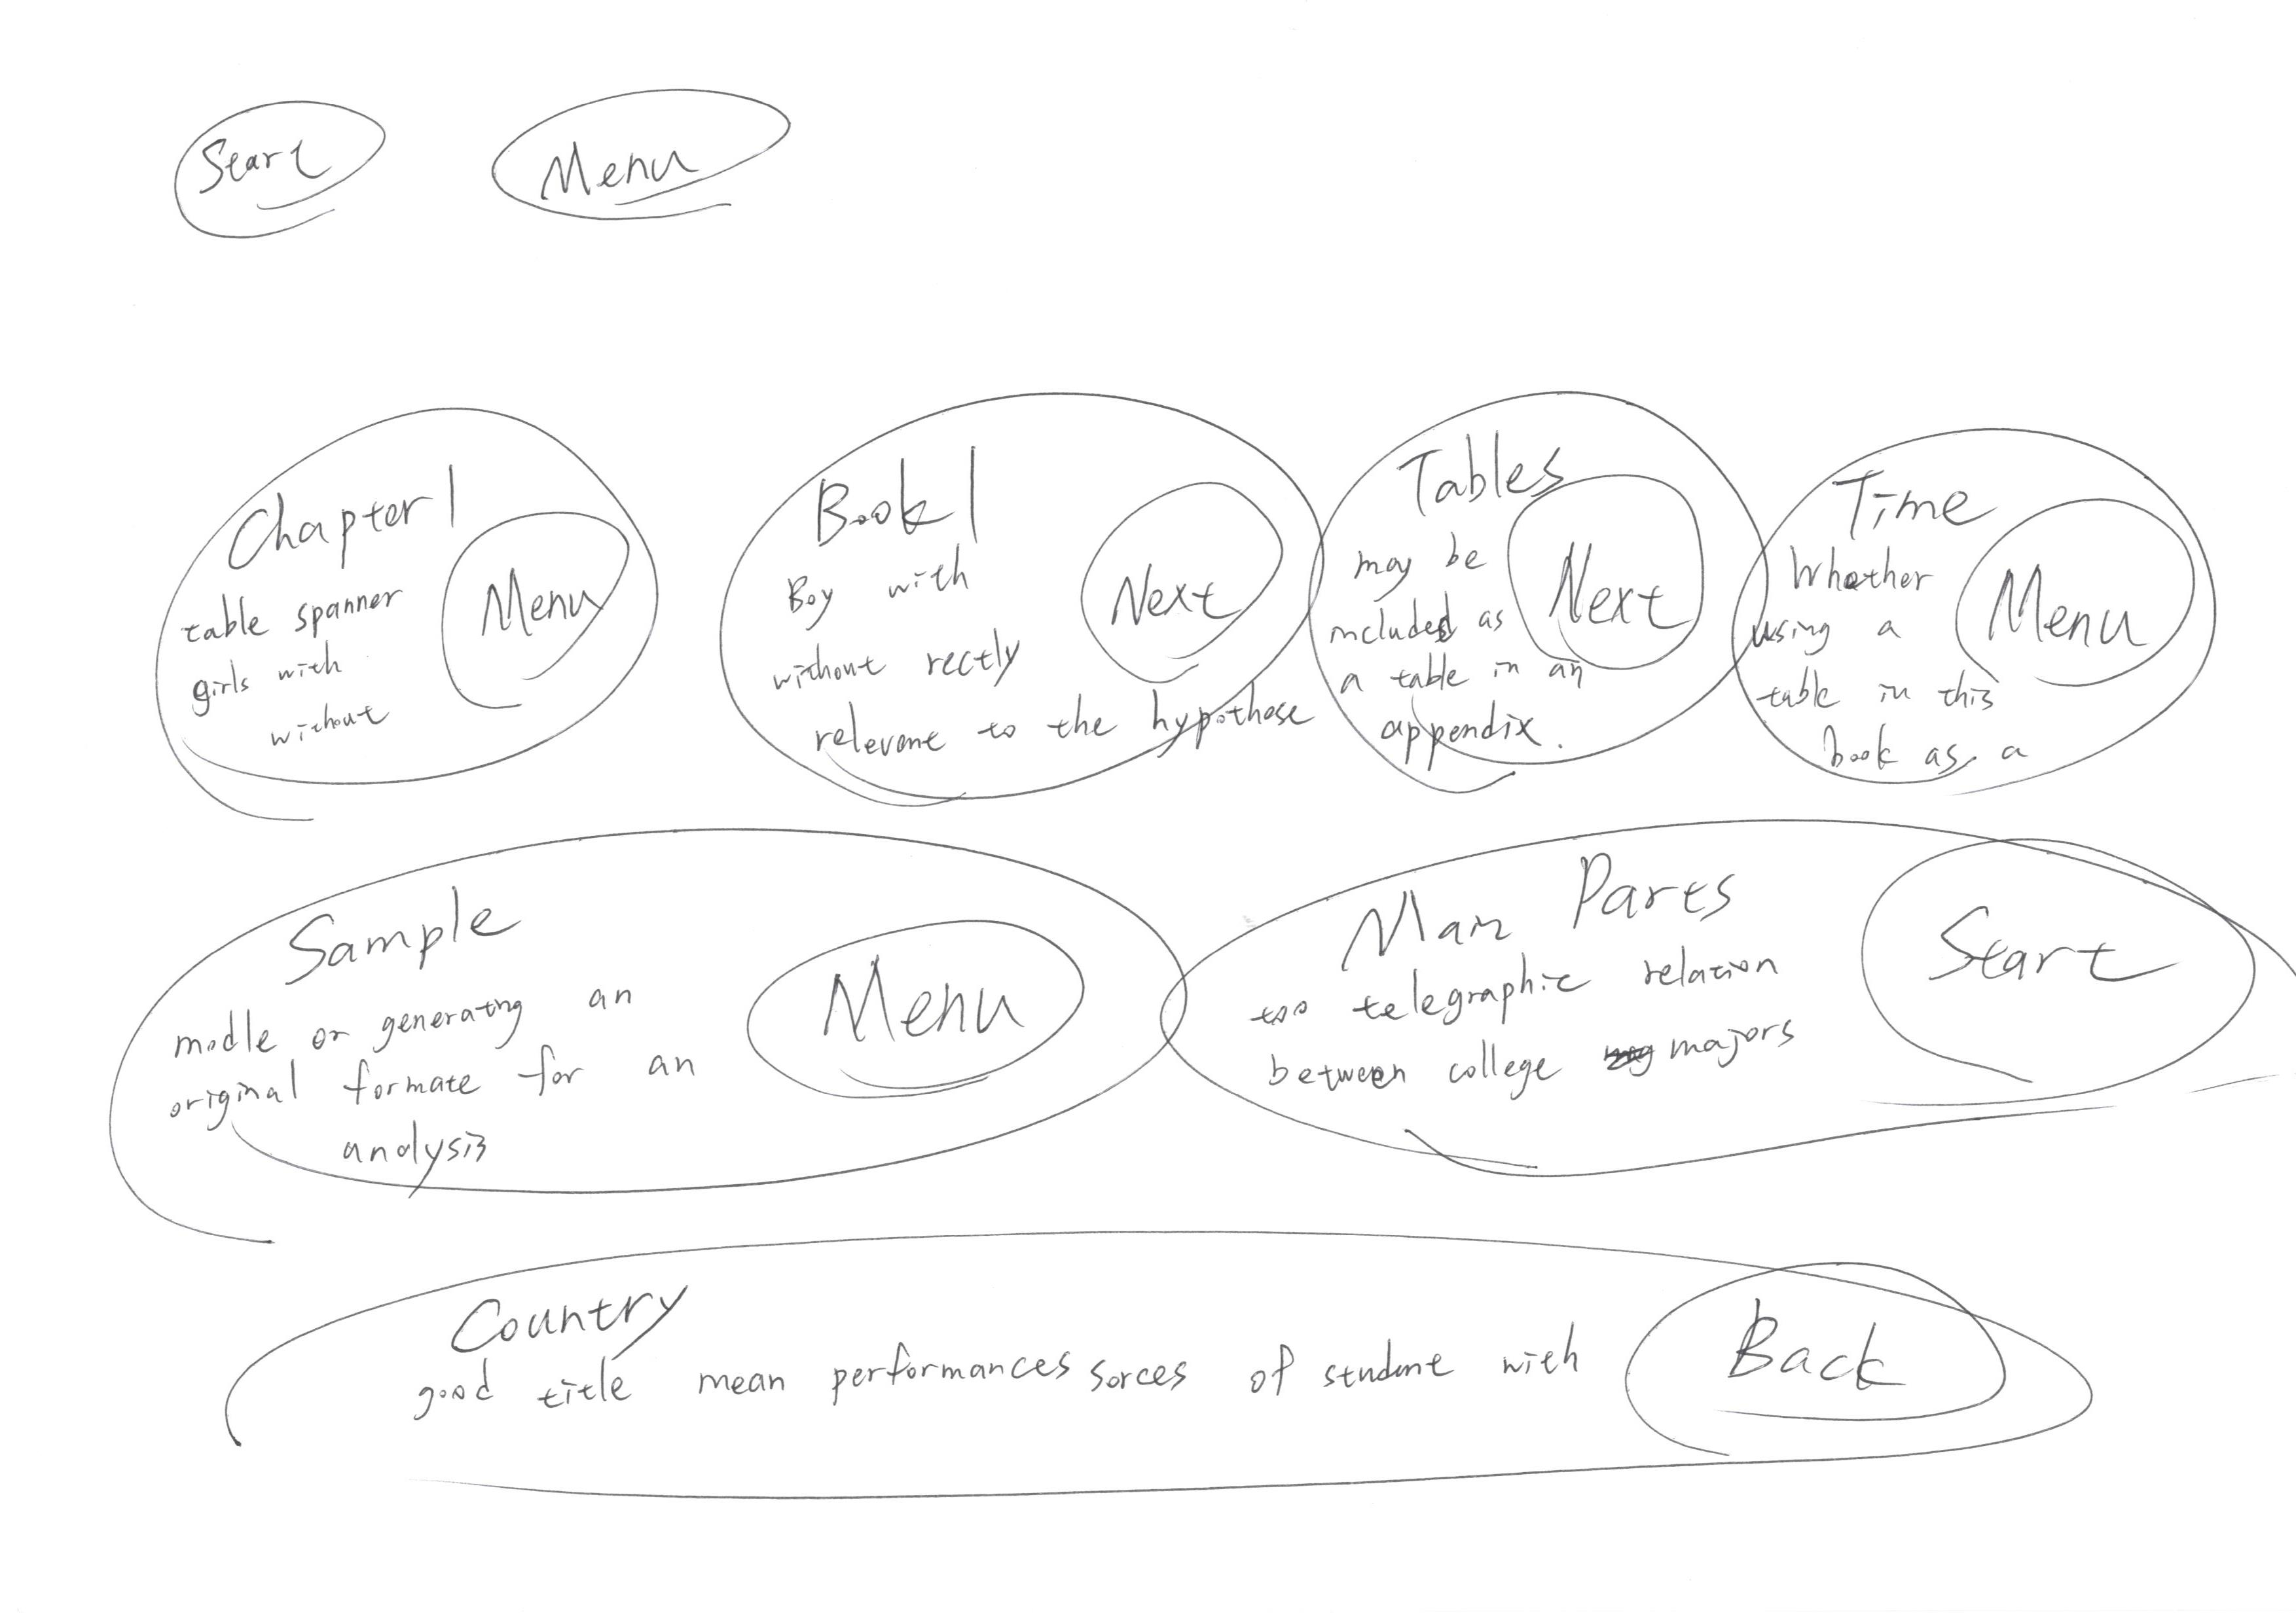back: (1612, 1243, 2022, 1462)
double: (1155, 808, 2296, 1211), (102, 800, 1194, 1220)
menu: (742, 909, 1116, 1118), (480, 70, 823, 230), (1943, 492, 2219, 689), (436, 494, 638, 708)
next: (1062, 462, 1301, 685)
quadruple: (710, 369, 1334, 835), (1712, 357, 2275, 845), (134, 383, 689, 808), (1299, 362, 1802, 824)
row: (100, 323, 2296, 849), (100, 1195, 2296, 1564), (100, 817, 2296, 1185), (100, 0, 2296, 260)
single: (178, 1223, 2150, 1520)
small-title: (1371, 852, 1732, 944), (805, 438, 1028, 564), (422, 1271, 689, 1350), (280, 900, 531, 982), (181, 489, 482, 550), (1420, 422, 1575, 508), (1832, 462, 1985, 548)
start: (1855, 826, 2250, 1107), (144, 62, 420, 255)
text: (158, 997, 735, 1183), (396, 1338, 1589, 1410), (1269, 951, 1820, 1093), (169, 571, 429, 770), (775, 564, 1044, 707), (814, 671, 1308, 747), (1359, 531, 1521, 750), (1797, 550, 1967, 721), (1359, 642, 1593, 754), (1783, 680, 2011, 794)
